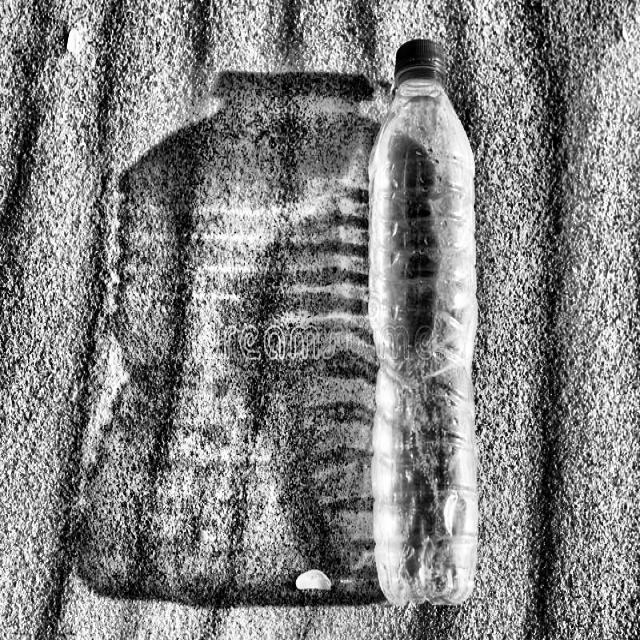waterbottle: (369, 38, 478, 606)
